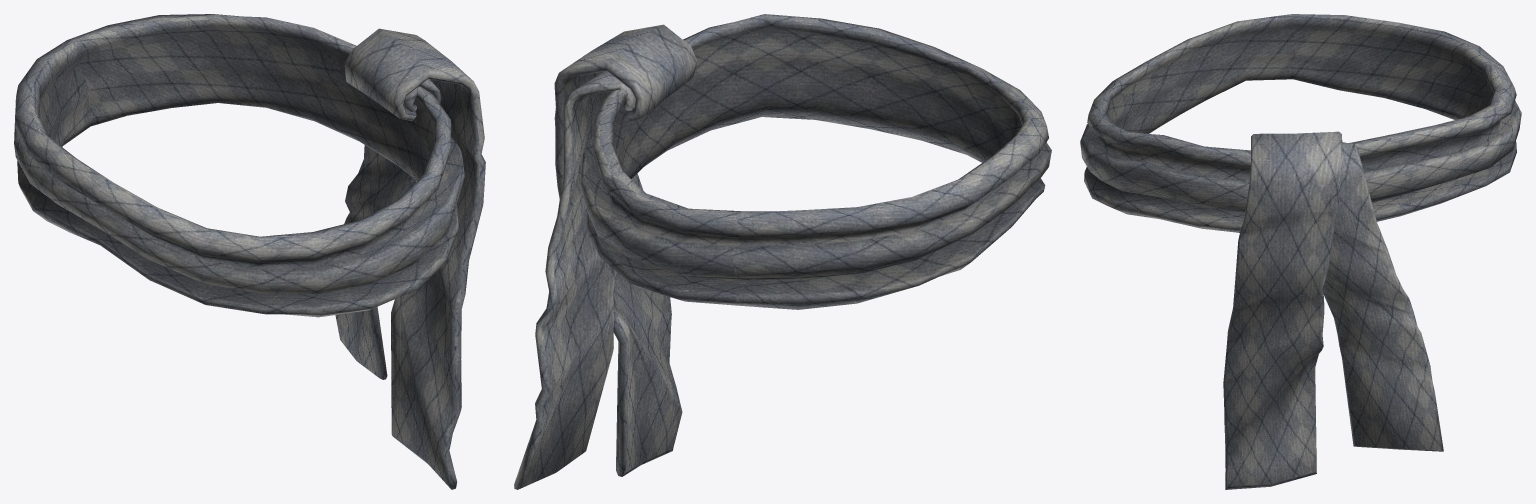
The model's file is wool_sash.glb.
The picture shows the model from 3 angles, left to right: view 1: azimuth 30°, elevation 25°; view 2: azimuth 150°, elevation 25°; view 3: azimuth 270°, elevation 25°; orthographic projection. The views are drawn at different scales.
Visible parts, largest first — view 1: wool_sash.003; view 2: wool_sash.003; view 3: wool_sash.003.
Part boxes in pixels (bbox=[...]): wool_sash.003: bbox=[14, 14, 485, 489]; wool_sash.003: bbox=[514, 14, 1051, 489]; wool_sash.003: bbox=[1080, 14, 1521, 489].
Bounding box in the file's own units: 0.2372 × 0.23 × 0.2596.
Materials: 1 (1 with a texture image).
